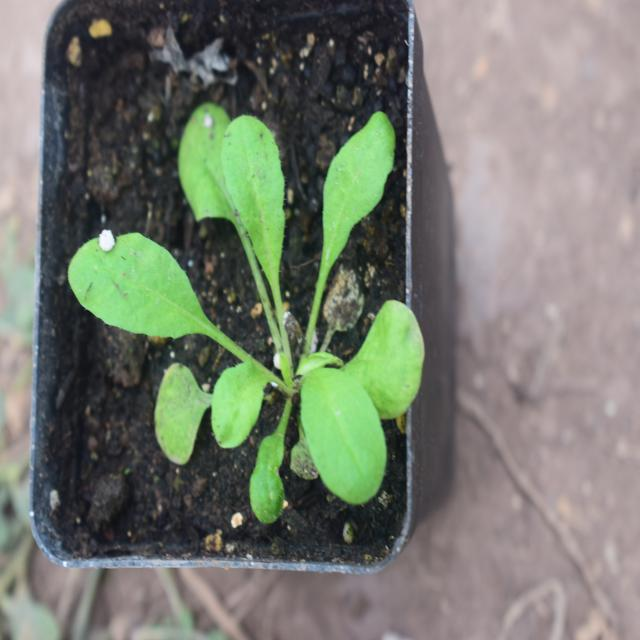Shepherd_Purse: (79, 77, 417, 503)
